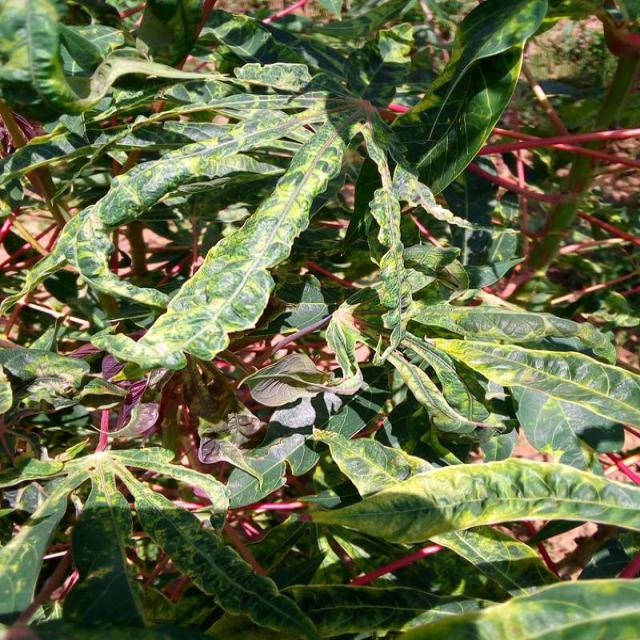cassava leaf: (0, 1, 638, 637), (90, 113, 347, 372)
